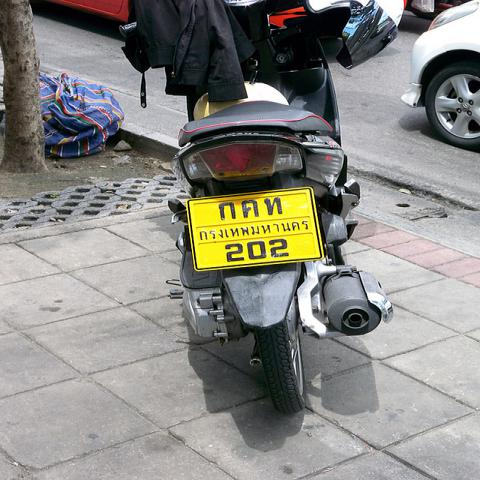car: (402, 1, 479, 150)
motorcycle: (162, 68, 394, 416)
